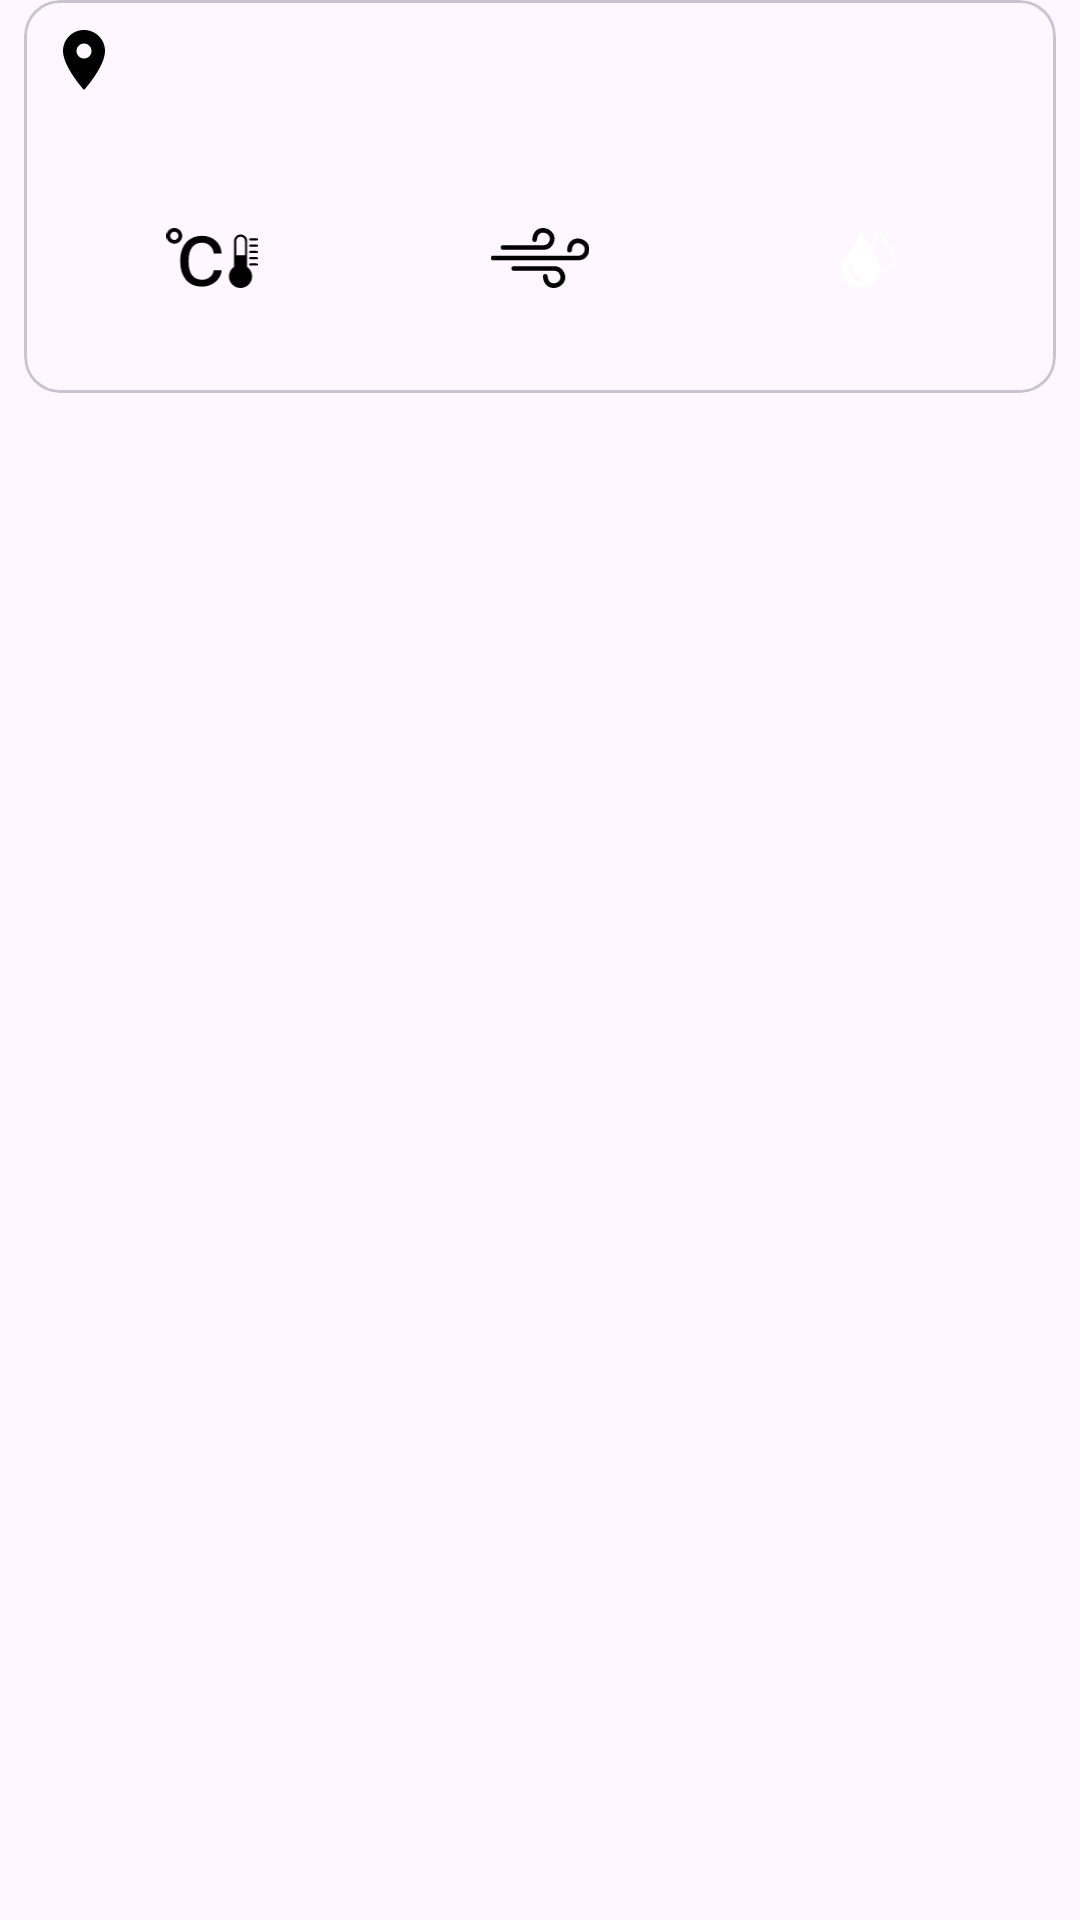

Where icons sit on this 1080px x 1920px app screen, as (x1, y1, x2, y2):
Icon temperature: (166, 228, 258, 288)
Icon wind speed: (491, 228, 589, 288)
